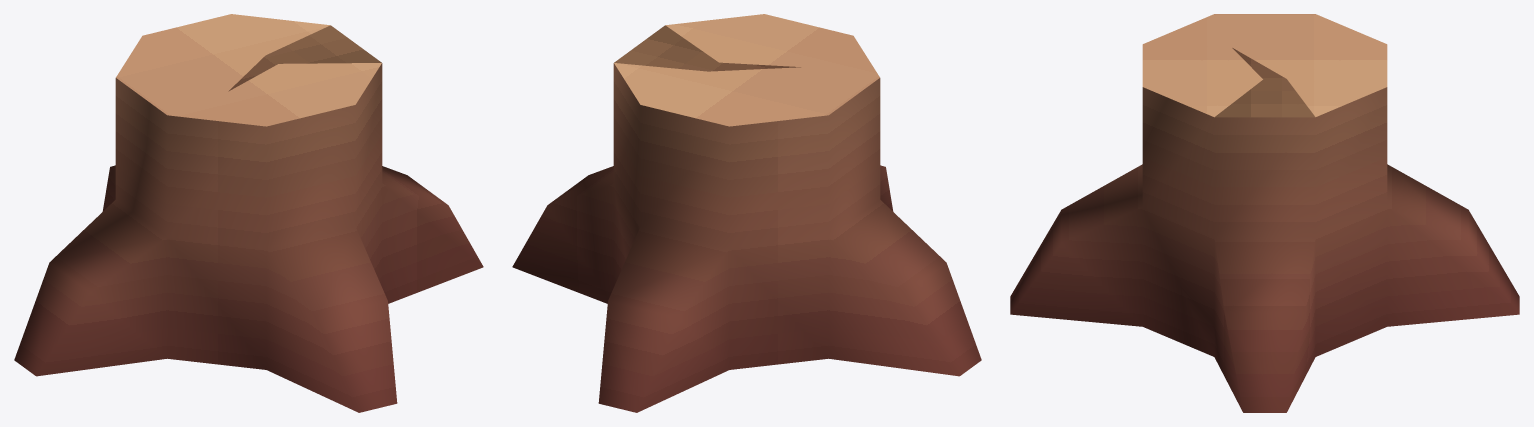
Rendered from Stump.fbx.
3 renders of one model, left to right at view 1: azimuth 30°, elevation 25°; view 2: azimuth 150°, elevation 25°; view 3: azimuth 270°, elevation 25°, orthographic.
Visible parts, largest first — view 1: Stump; view 2: Stump; view 3: Stump.
Part boxes in pixels (x1,y1,x2,y2): Stump: [14, 14, 483, 412]; Stump: [512, 14, 981, 412]; Stump: [1010, 14, 1519, 412].
Bounding box in the file's own units: 385 × 200 × 385.
